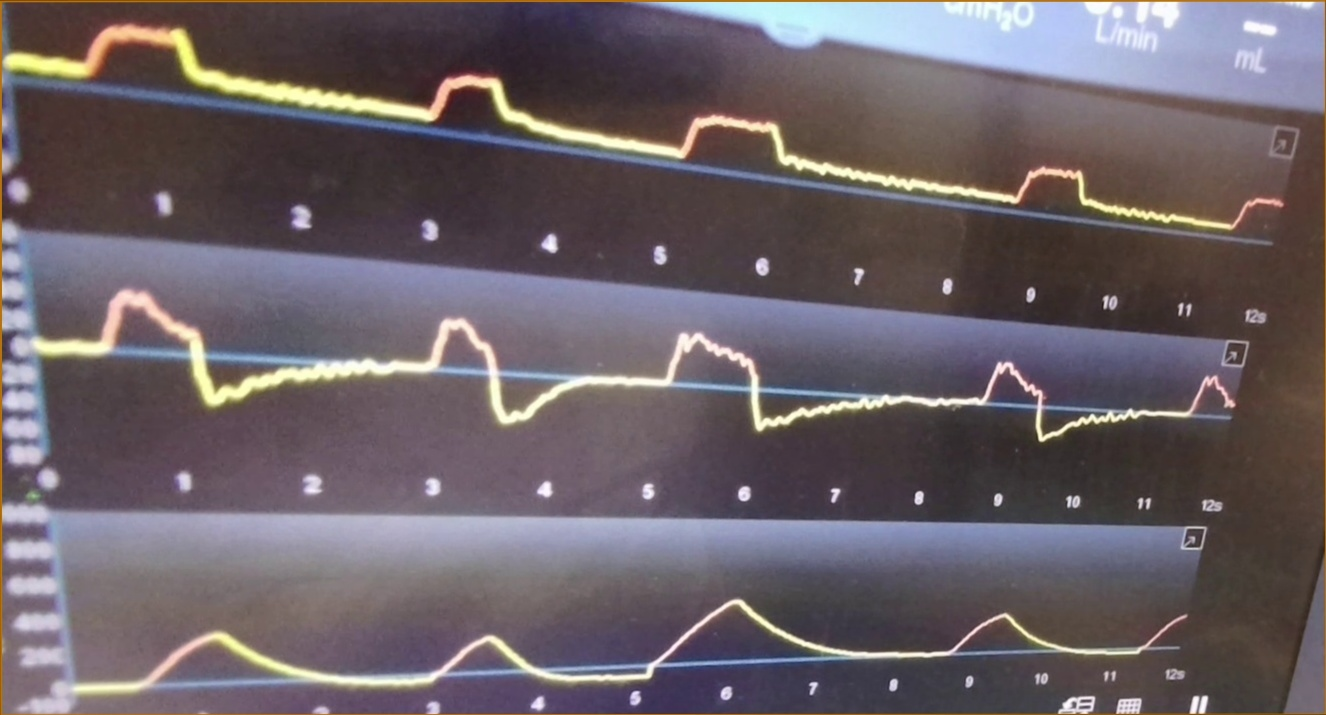Accumulation Flow: (48, 288, 1233, 449)
Volume: (74, 589, 1187, 701)
